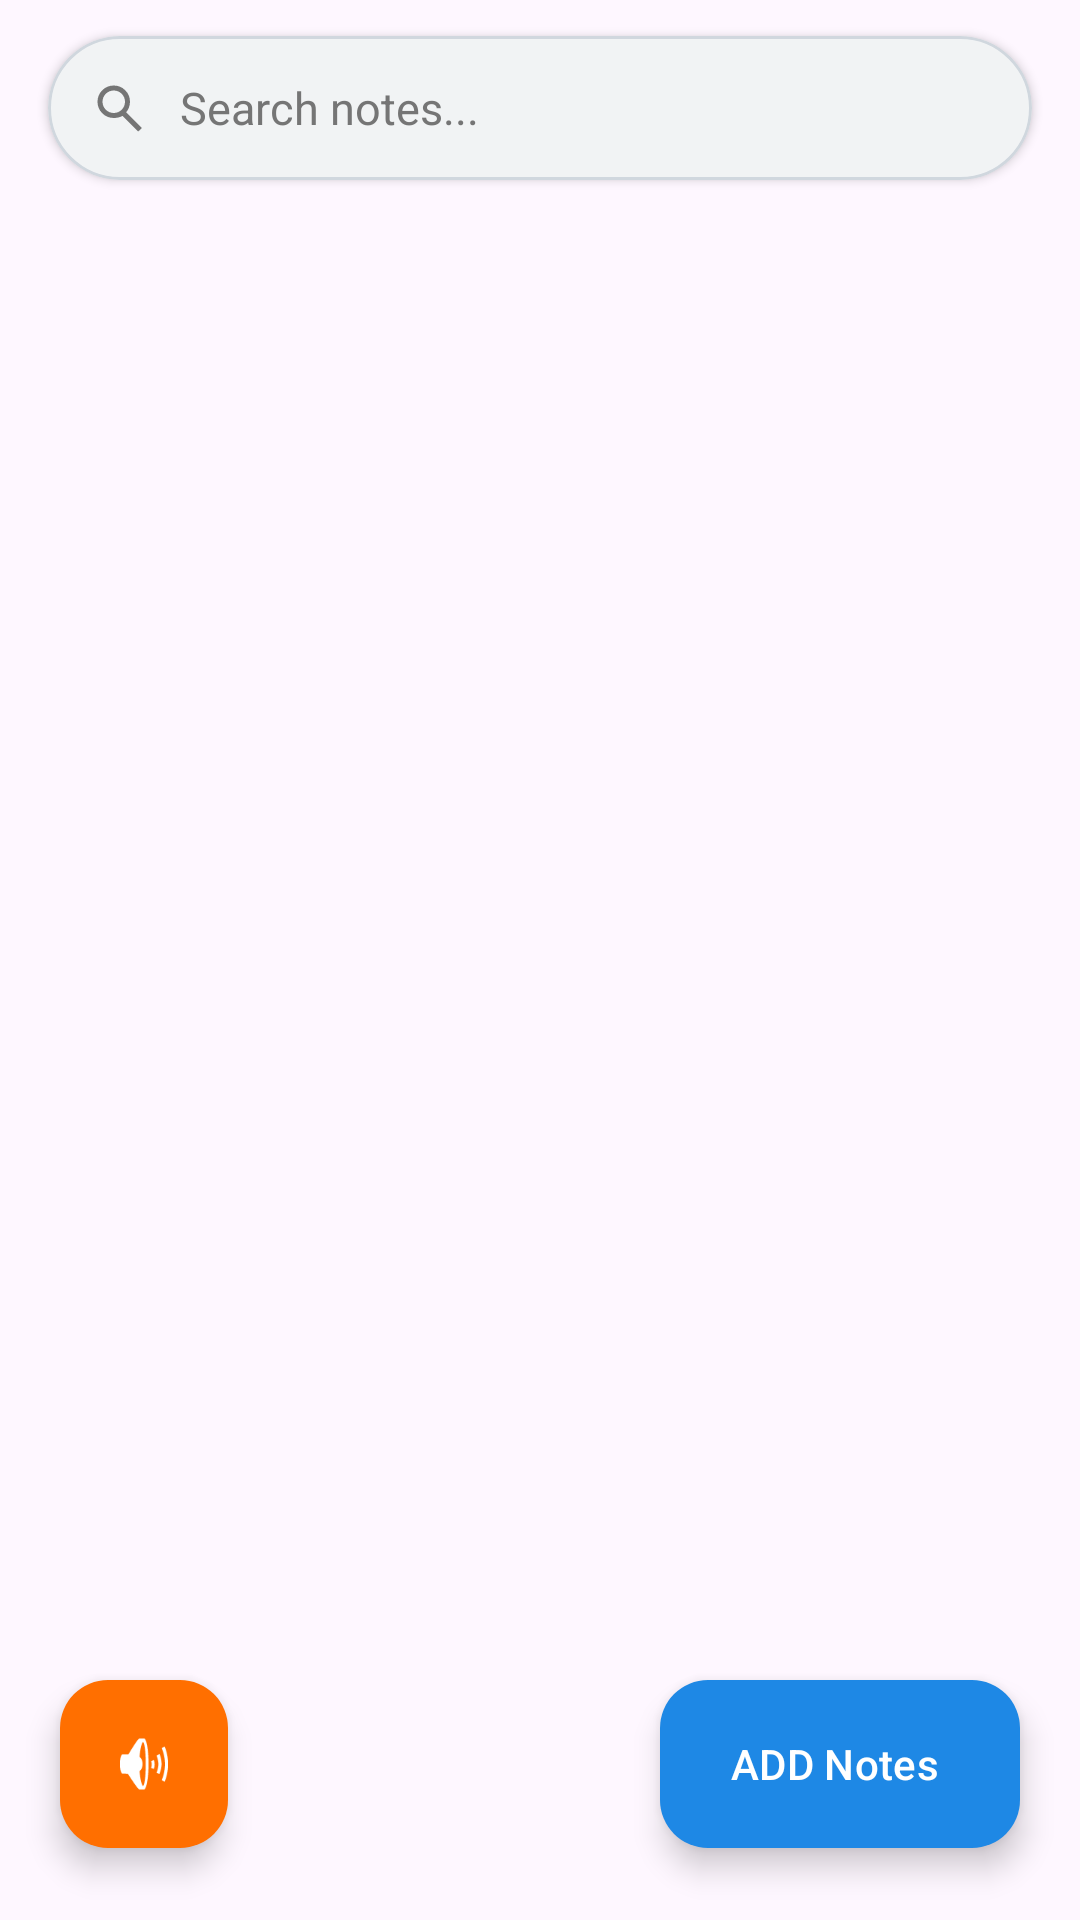

Locate icon controls on the screen. Image size 1080px×1920px, boxes as (x1, y1, x2, y2).
Listen to all notes: (60, 1680, 228, 1848)
